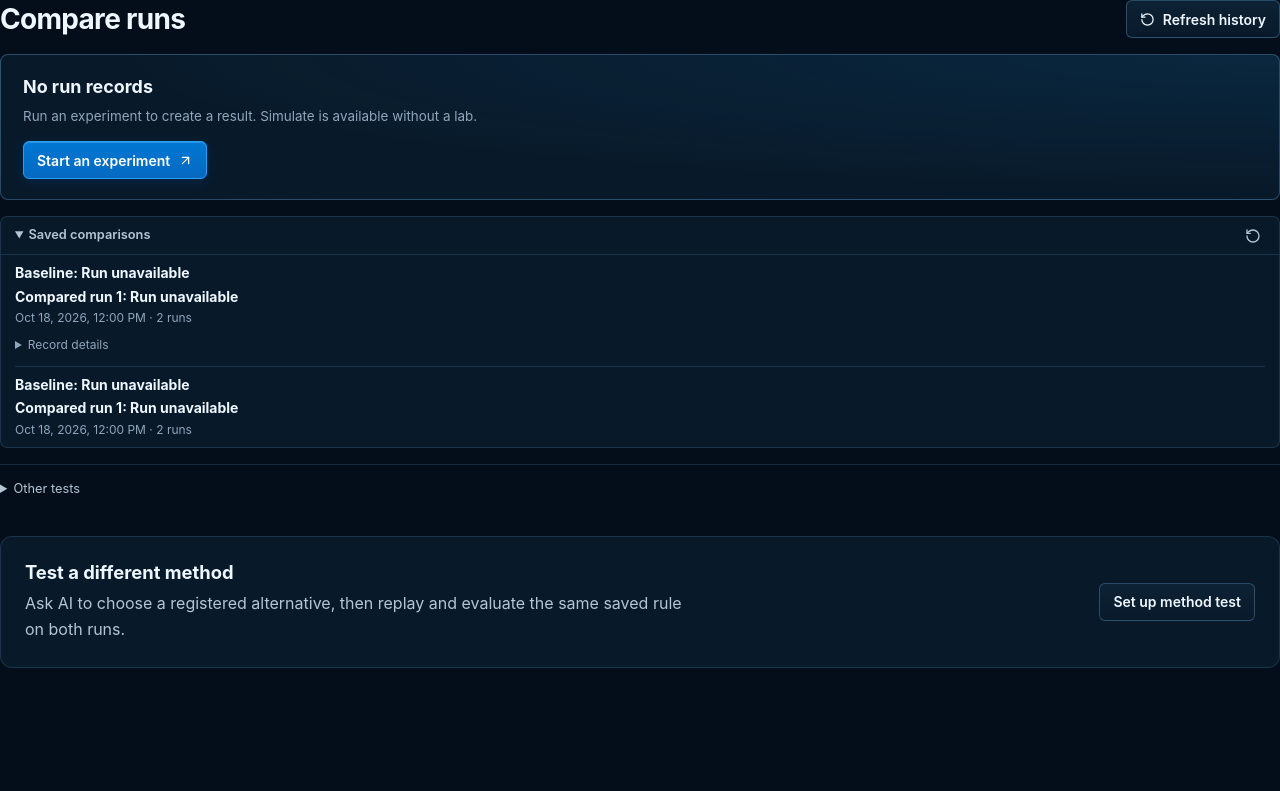
Test: keeps saved comparisons available when no current run records remain
Expected: the element "No run records" is shown, top-left (0, 54), bottom-right (1279, 200)
Click the button with aria-label "Open saved comparison.": (102, 273) top-left (15, 255), bottom-right (1265, 333)
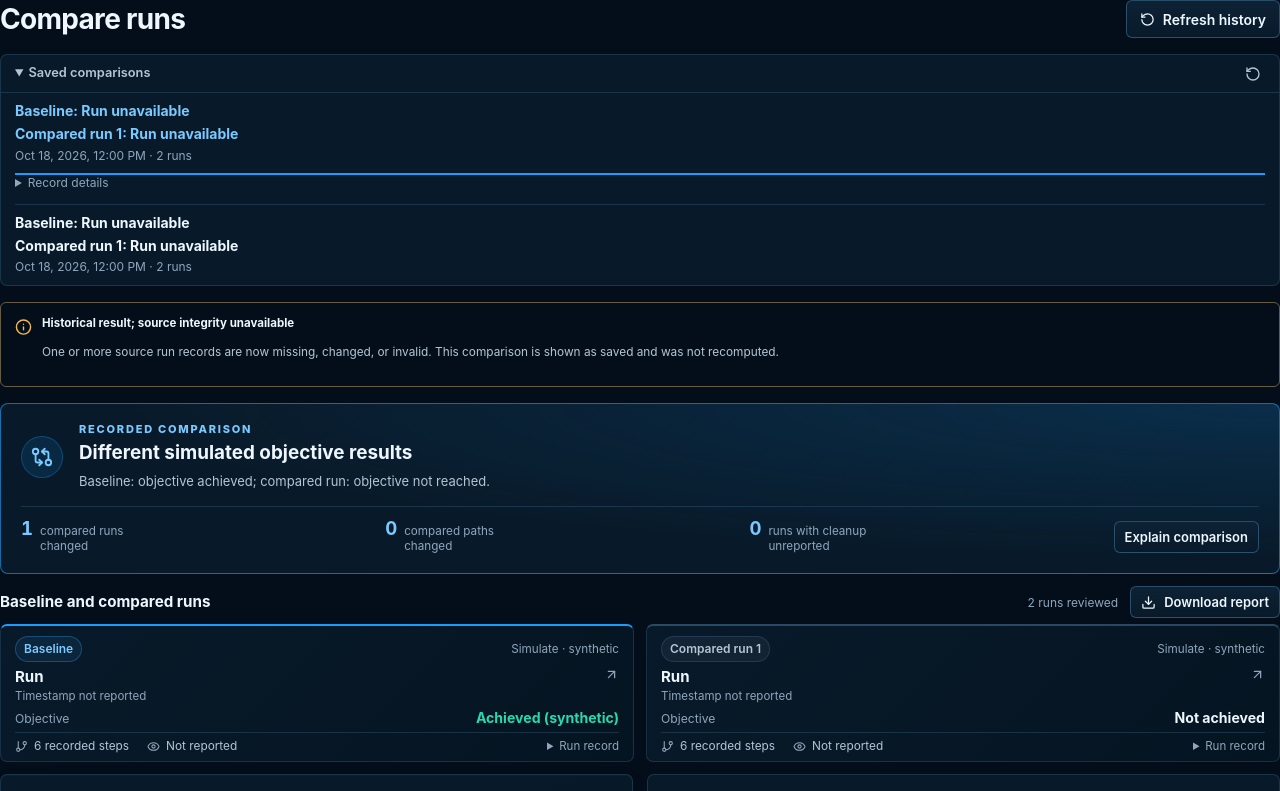
Expected: the text "shown as saved and was not recomputed" is shown, top-left (42, 345), bottom-right (779, 359)
Expected: the text "No run records" is gone
